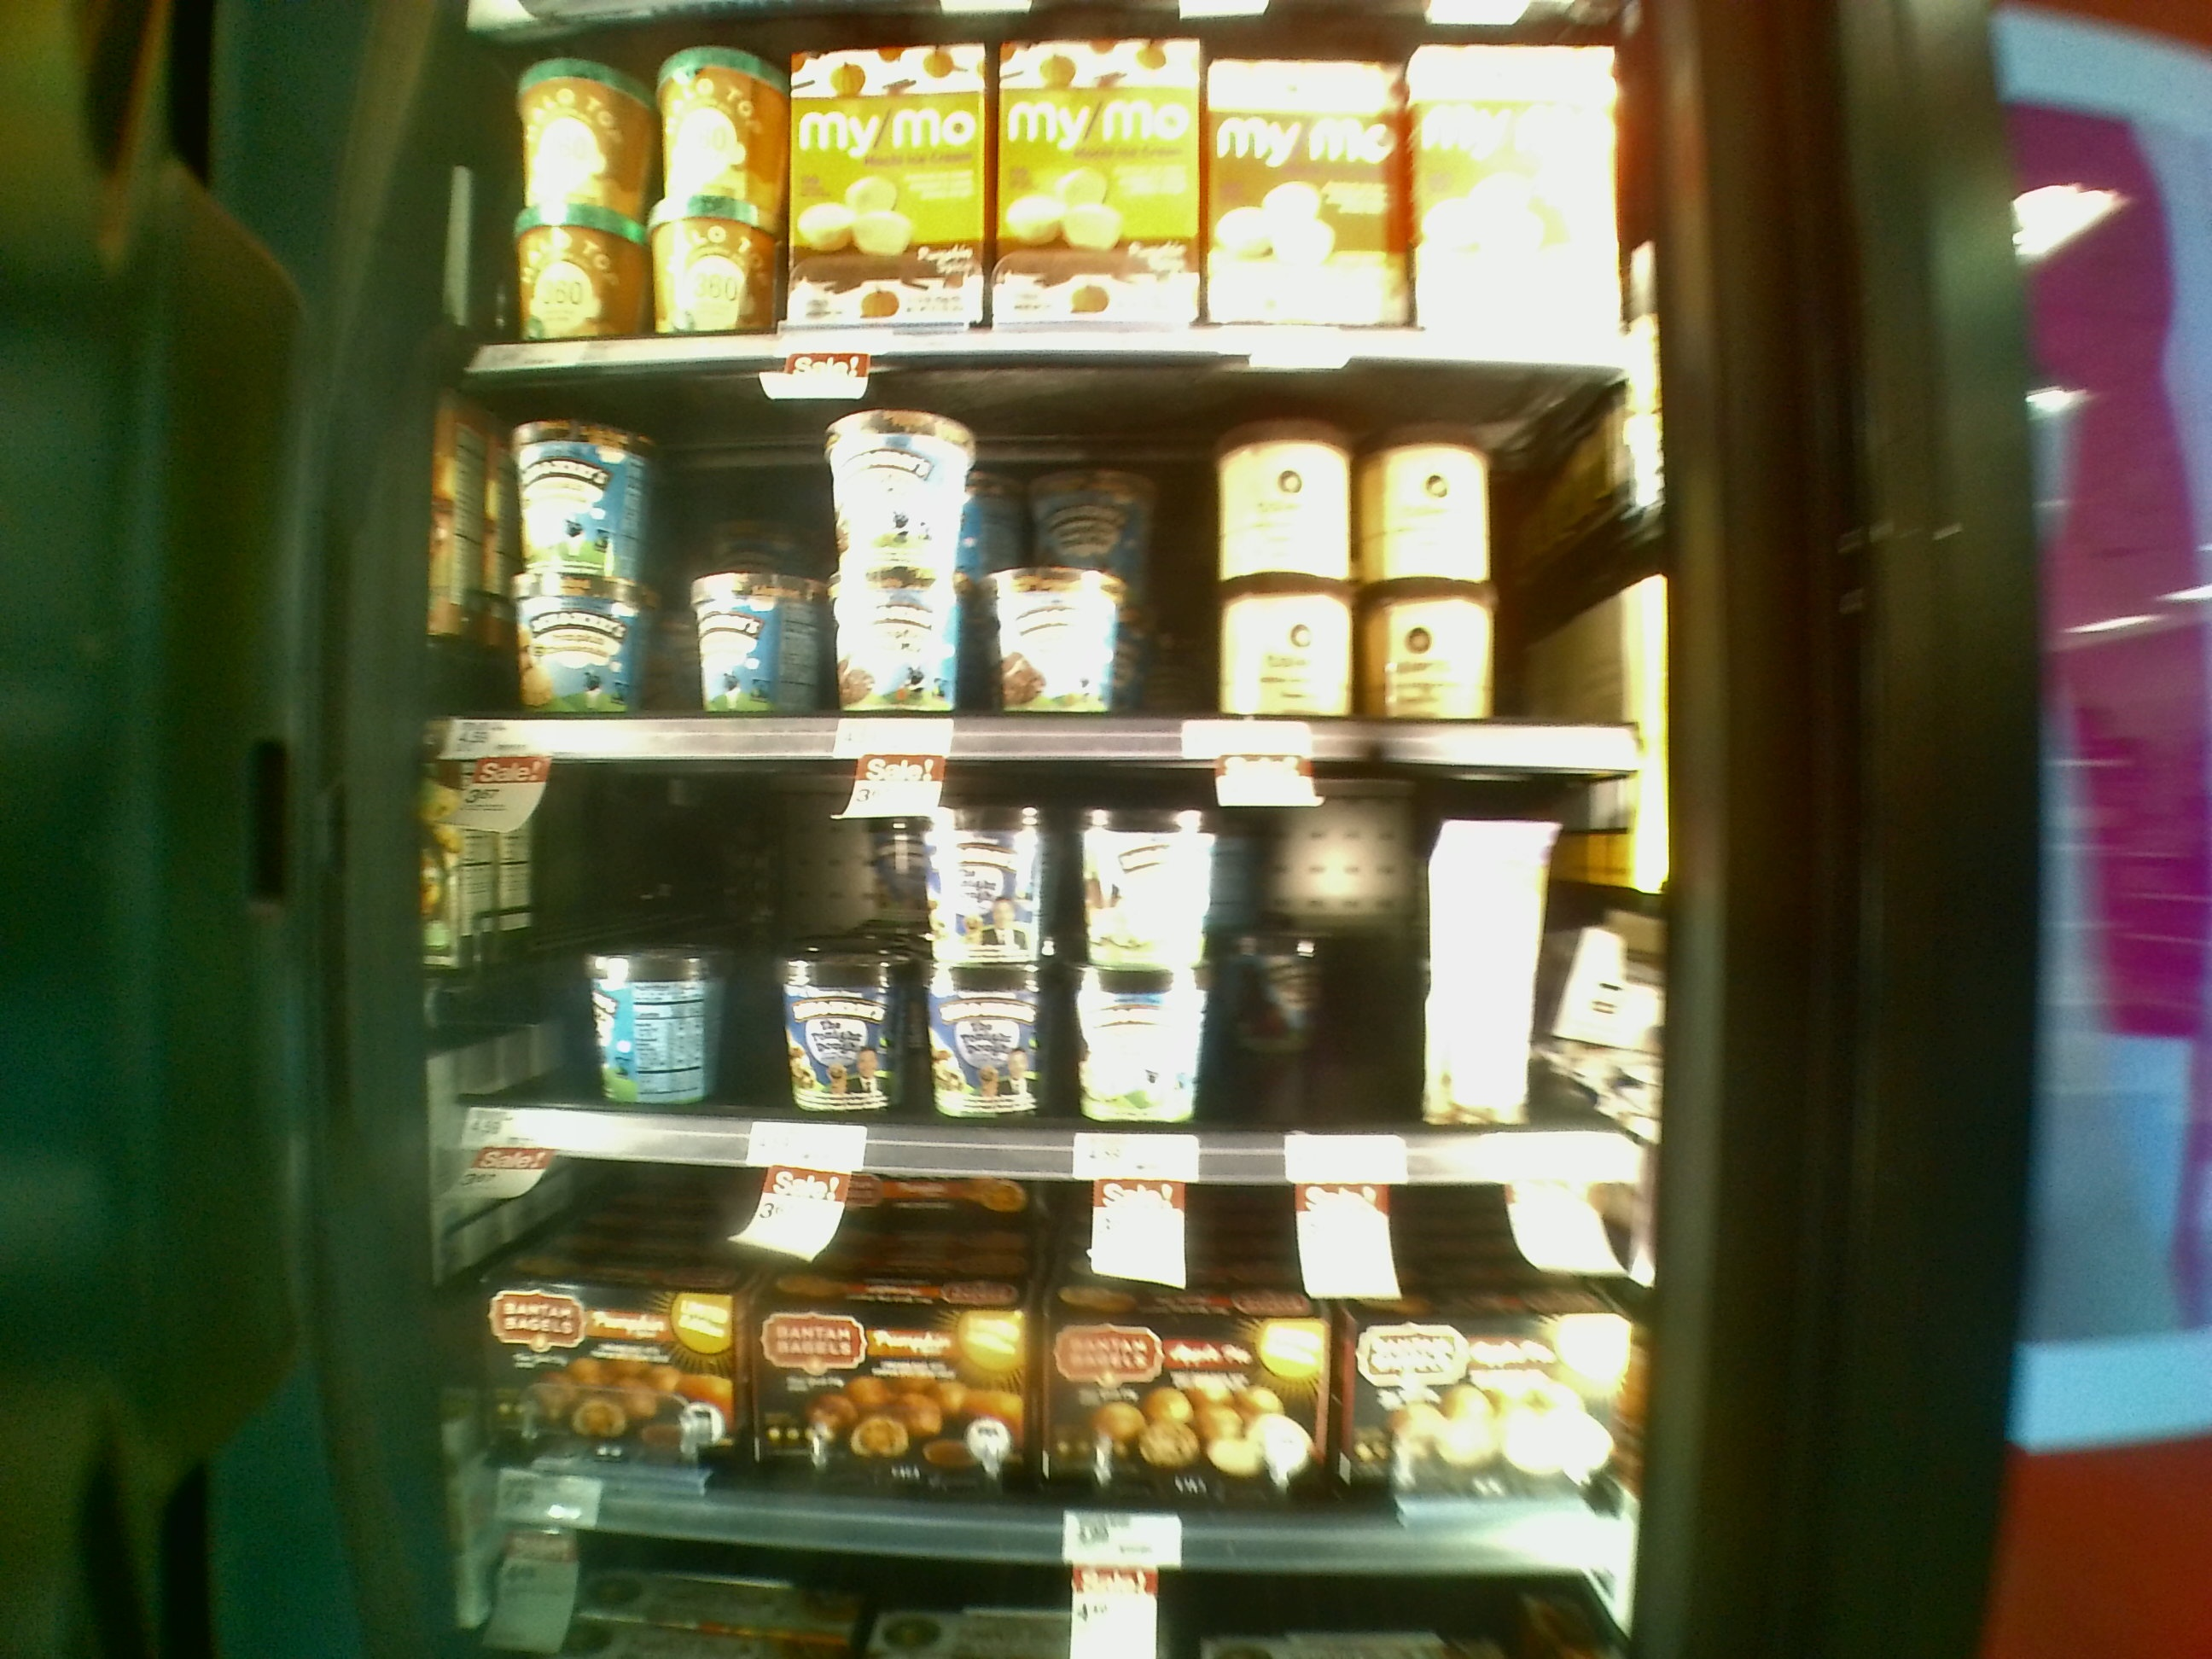shelf: (425, 1105, 1639, 1570), (399, 749, 1658, 1171), (418, 359, 1658, 763)
